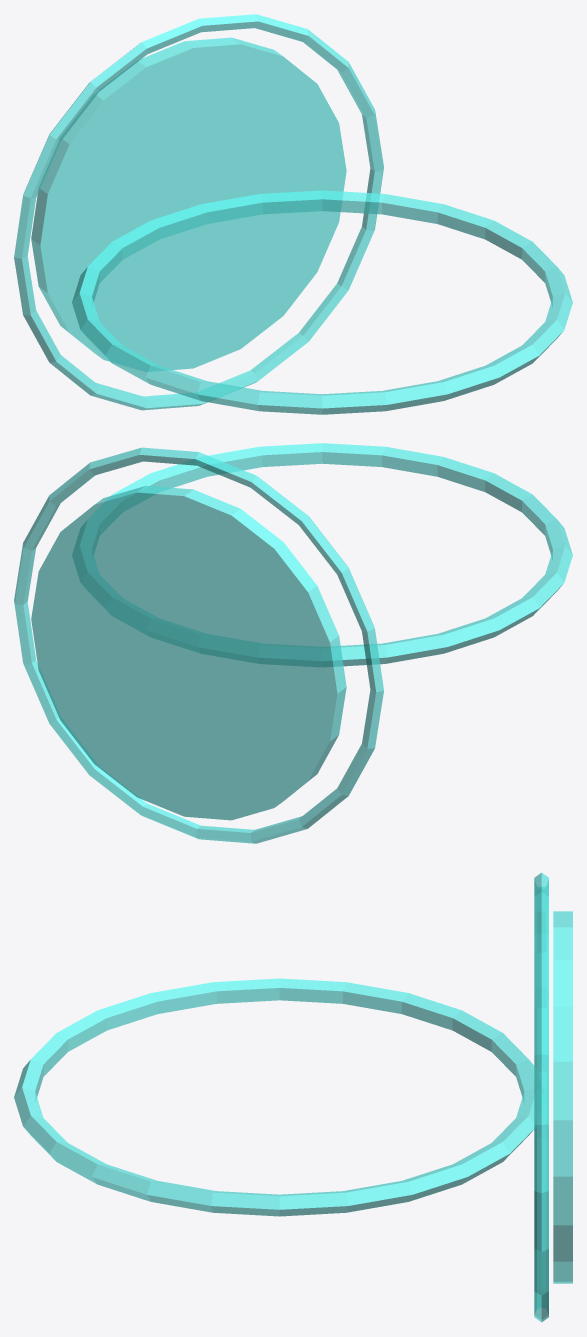
File: 09_ledge_grab_marker.glb
The picture shows the model from 3 angles, top to bottom: view 1: azimuth 30°, elevation 25°; view 2: azimuth 150°, elevation 25°; view 3: azimuth 270°, elevation 25°; orthographic projection. The views are drawn at different scales.
Parts seen in each view (by area): view 1: base_disc, outline_ring, base_ring; view 2: base_disc, outline_ring, base_ring; view 3: outline_ring, base_disc, base_ring.
Boxes of the visible parts, <box> form: base_disc: <box>31,37,346,371</box>; outline_ring: <box>72,190,572,414</box>; base_ring: <box>14,14,383,410</box>; base_disc: <box>31,485,346,820</box>; outline_ring: <box>72,443,572,666</box>; base_ring: <box>14,447,383,843</box>; outline_ring: <box>14,978,544,1216</box>; base_disc: <box>553,911,572,1283</box>; base_ring: <box>534,872,548,1322</box>.
Bounding box in the file's own units: 1.36 × 1.16 × 1.43.
